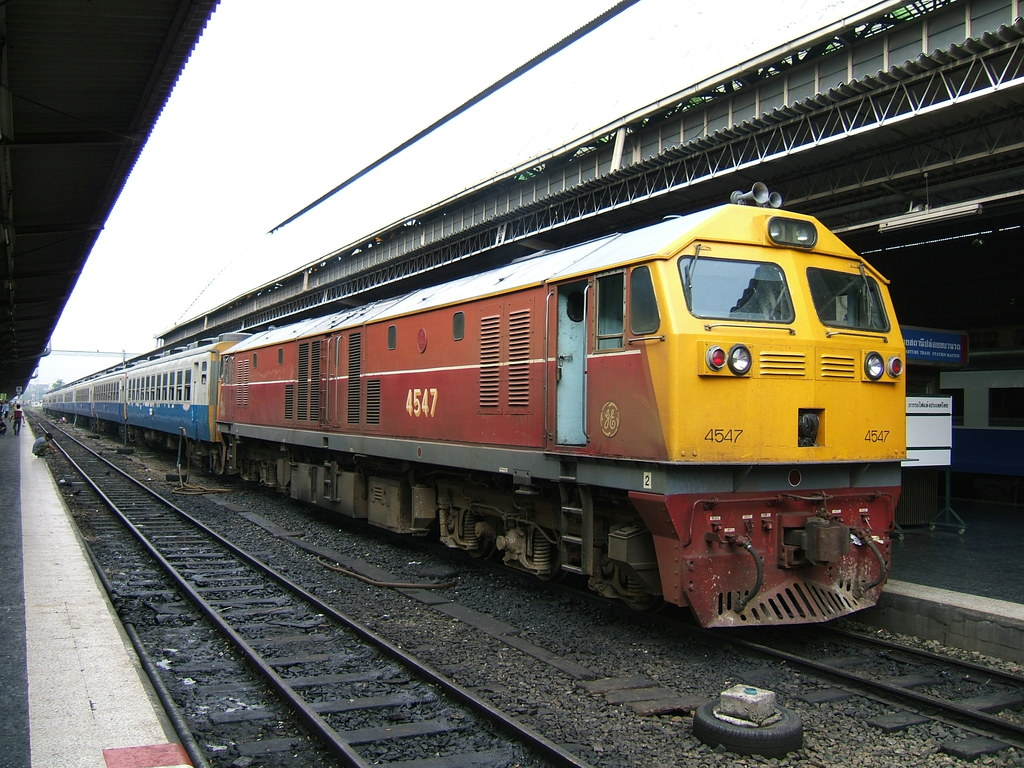train: (40, 181, 904, 632)
